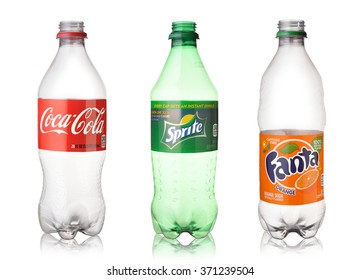plastic: (34, 19, 328, 248)
